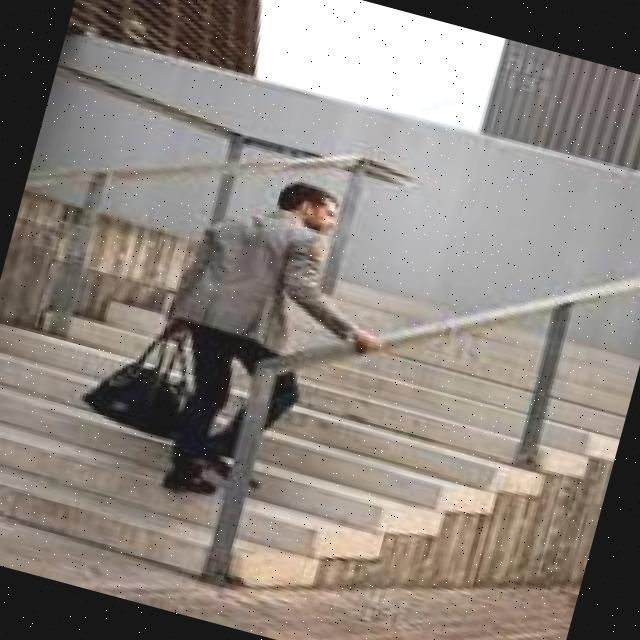stairs: (0, 186, 639, 640)
